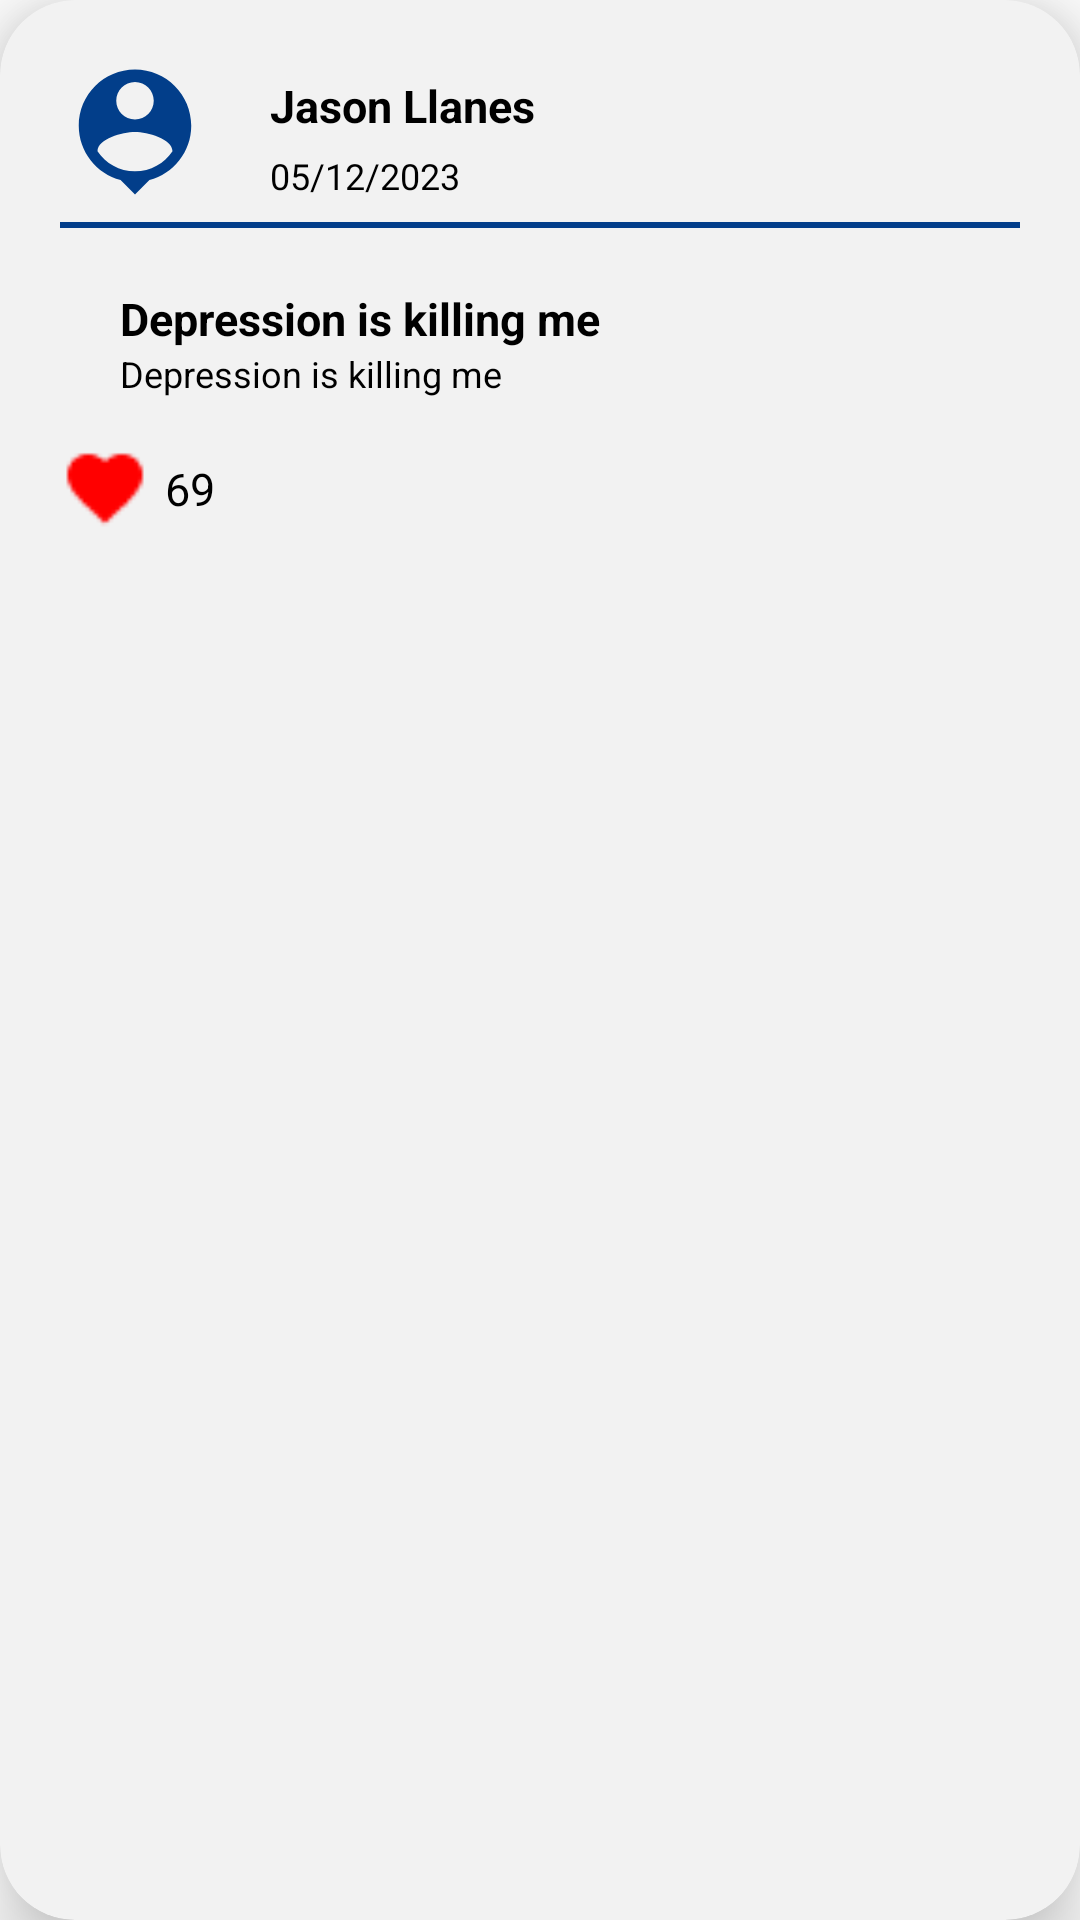

Screen size 1080w x 1920h. Icon name, then its center in pixels as (x,y):
heart: (105,488)
user: (135,132)
